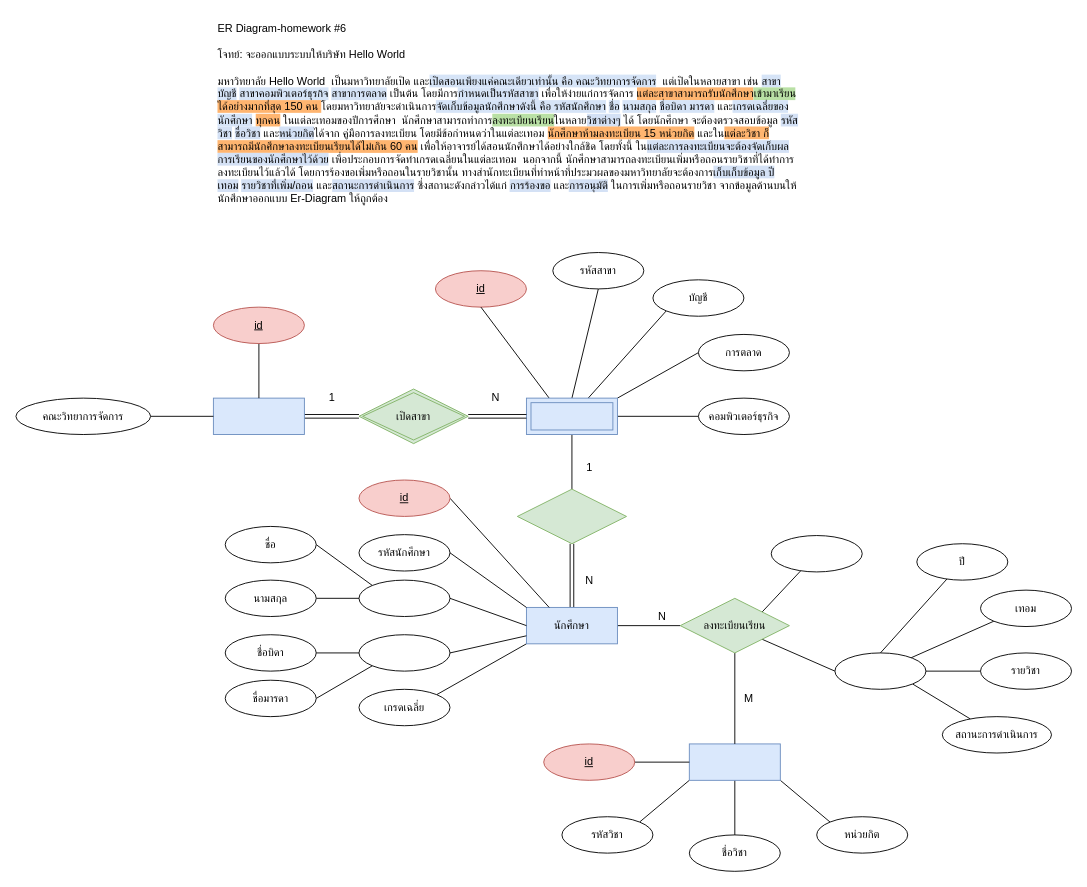
The diagram is 1087 pixels wide and 887 high, and some of its shapes have lost their labels. The shapes that lost their labels are listed below. From the top down, each one's centre as x and y in pixels, then its label:
At pixel 258 416: "คณะ".
At pixel 571 416: "สาขา".
At pixel 571 516: "รับเข้าศึกษา".
At pixel 816 553: "ผลการเรียน".
At pixel 404 598: "ชื่อ-สกุล".
At pixel 404 652: "ชื่อบิดา-มารดา".
At pixel 880 670: "ข้อมูลการเพิ่ม-ถอน".
At pixel 734 761: "วิชา".
